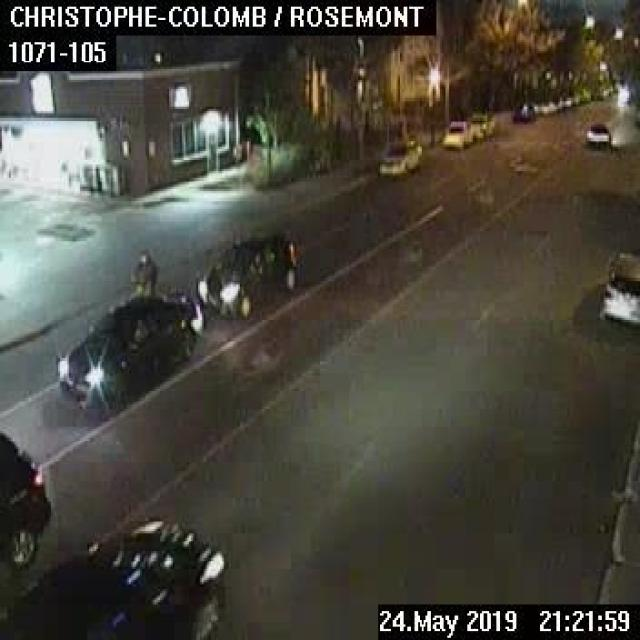pedestrian: (129, 247, 154, 292)
vehicle: (0, 518, 225, 638), (56, 292, 200, 404), (197, 235, 296, 316), (0, 429, 51, 569), (599, 249, 638, 329), (378, 137, 420, 174), (442, 119, 471, 148), (470, 112, 493, 137), (584, 123, 609, 146), (512, 102, 534, 122), (533, 100, 554, 113)
